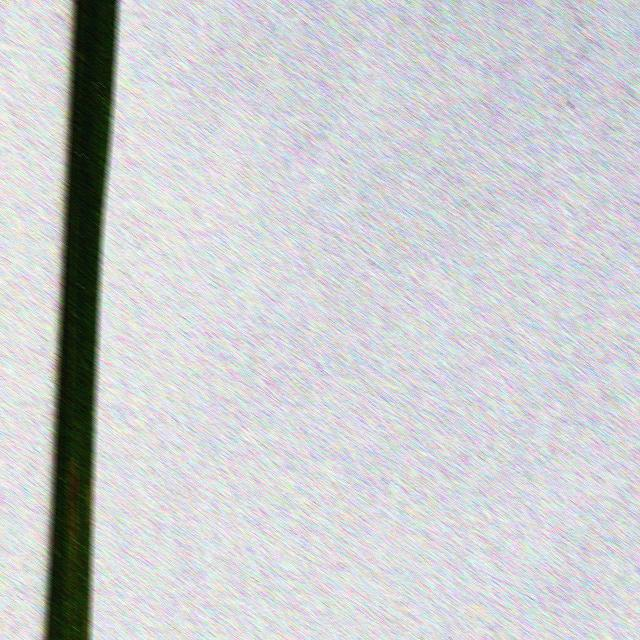NBS: (70, 471, 76, 536), (85, 633, 88, 640)
